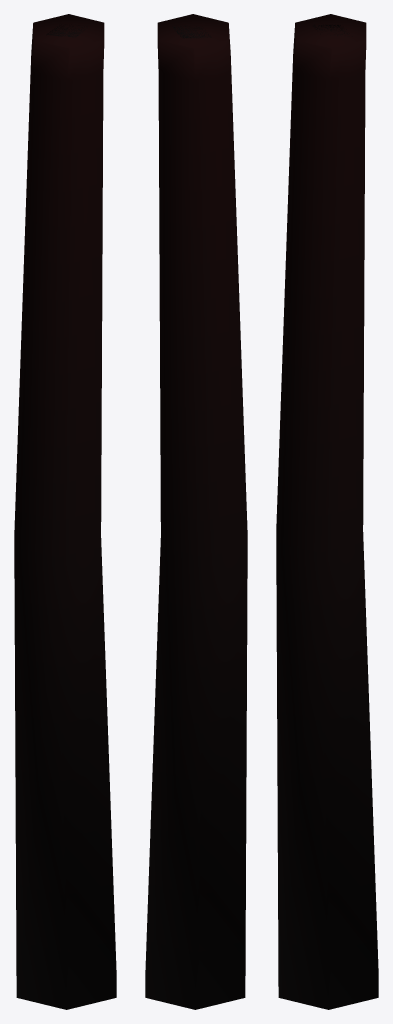
Rendered from broadleaf_a_mid.glb.
3 views of the same model, side by side, from view 1: azimuth 30°, elevation 25°; view 2: azimuth 150°, elevation 25°; view 3: azimuth 330°, elevation 25° (orthographic).
Visible parts, largest first — view 1: broadleaf_a_mid; view 2: broadleaf_a_mid; view 3: broadleaf_a_mid.
Boxes of the visible parts, left/top/right/bottom form: broadleaf_a_mid: left=14, top=14, right=116, bottom=1009; broadleaf_a_mid: left=145, top=14, right=247, bottom=1009; broadleaf_a_mid: left=276, top=14, right=378, bottom=1009.
Bounding box in the file's own units: 0.3541 × 3.16 × 0.3.
Materials: 1 (1 with a texture image).
